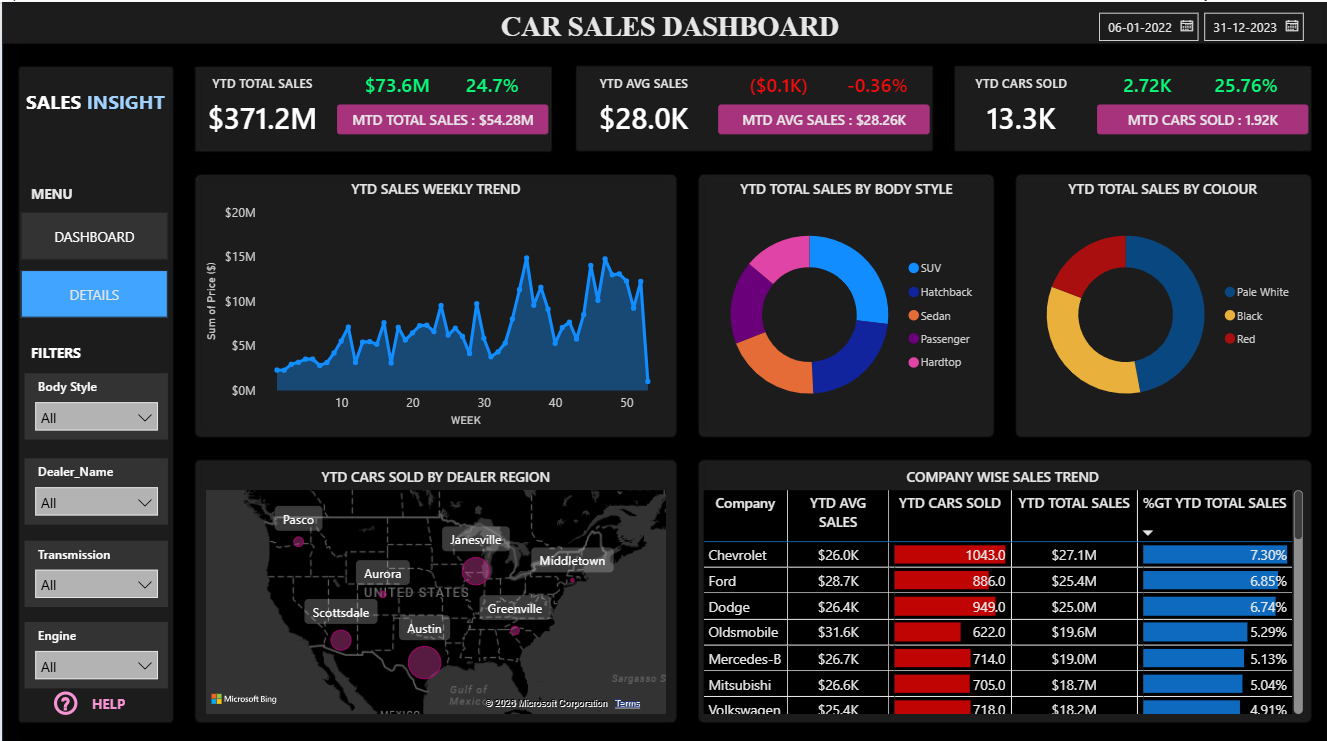

What the dashboard file says about the page in this screenshot:
{"tool":"powerbi","page":{"name":"DASHBOARD","canvas":[1280,720],"ordinal":0},"visuals":[{"type":"card","title":"YTD TOTAL SALES","fields":{"Values":["CAR SALE DATA.YTD TOTAL SALES"]},"box":[168.9,70,165.3,70],"z":0},{"type":"card","fields":{"Values":["CAR SALE DATA.SALES DIFFERENCE"]},"box":[334.2,65.1,95.3,33.8],"z":1000},{"type":"card","fields":{"Values":["CAR SALE DATA.YOY SALES DIFFERENCE"]},"box":[425.9,65.1,95.3,33.8],"z":2000},{"type":"card","fields":{"Values":["CAR SALE DATA.MTD CONCATENATE"]},"box":[323.3,98.9,203.9,29],"z":3000},{"type":"card","title":"YTD AVG SALES","fields":{"Values":["CAR SALE DATA.YTD AVG SALES"]},"box":[536.9,70,165.3,70],"z":4000},{"type":"card","fields":{"Values":["CAR SALE DATA.AVG DIFFERENCE"]},"box":[702.1,65.1,95.3,33.8],"z":5000},{"type":"card","fields":{"Values":["CAR SALE DATA.YDY GROWTH IN AVG PRICE"]},"box":[797.5,65.1,95.3,33.8],"z":6000},{"type":"card","fields":{"Values":["CAR SALE DATA.MTD AVG CONCATENATE"]},"box":[691.3,98.9,203.9,29],"z":7000},{"type":"card","title":"YTD CARS SOLD","fields":{"Values":["CAR SALE DATA.YTD CARS SOLD"]},"box":[901.2,70,165.3,70],"z":8000},{"type":"card","fields":{"Values":["CAR SALE DATA.CARS SOLD DIFF"]},"box":[1058,65.1,95.3,33.8],"z":9000},{"type":"card","fields":{"Values":["CAR SALE DATA.YOY GROWTH IN CAR SOLD"]},"box":[1153.4,65.1,95.3,33.8],"z":10000},{"type":"card","fields":{"Values":["CAR SALE DATA.MTD CARS SOLD CONCATENATE"]},"box":[1056.8,98.9,203.9,29],"z":11000},{"type":"areaChart","title":"YTD SALES WEEKLY TREND","fields":{"Category":["CALENDAR TABLE.WEEK"],"Y":["Sum(CAR SALE DATA.Price ($))"]},"box":[191.8,171.3,453.6,243.7],"z":12000},{"type":"donutChart","title":"YTD TOTAL SALES BY BODY STYLE","fields":{"Category":["CAR SALE DATA.Body Style"],"Y":["CAR SALE DATA.YTD TOTAL SALES"]},"box":[679.2,171.3,271.4,243.7],"z":13000},{"type":"donutChart","title":"YTD TOTAL SALES BY COLOUR","fields":{"Category":["CAR SALE DATA.Color"],"Y":["CAR SALE DATA.YTD TOTAL SALES"]},"box":[984.5,171.3,271.4,243.7],"z":14000},{"type":"map","title":"YTD CARS SOLD BY DEALER REGION","fields":{"Category":["CAR SALE DATA.Dealer_Region"],"Size":["CAR SALE DATA.YTD CARS SOLD"]},"box":[191.8,448.8,453.6,243.7],"z":15000},{"type":"tableEx","title":"COMPANY WISE SALES TREND","fields":{"Values":["CAR SALE DATA.Company","CAR SALE DATA.YTD AVG SALES","CAR SALE DATA.YTD CARS SOLD","CAR SALE DATA.YTD TOTAL SALES","Divide(CAR SALE DATA.YTD TOTAL SALES, ScopedEval(CAR SALE DATA.YTD TOTAL SALES, []))"]},"box":[670.8,448.8,589.9,243.7],"z":16000},{"type":"textbox","box":[418.8,3.8,458.8,41.2],"z":17000},{"type":"slicer","fields":{"Values":["CAR SALE DATA.Body Style"]},"box":[21.2,358.5,138.8,63.8],"z":18000},{"type":"slicer","fields":{"Values":["CAR SALE DATA.Dealer_Name"]},"box":[21.2,439.7,138.8,63.8],"z":19000},{"type":"slicer","fields":{"Values":["CAR SALE DATA.Transmission"]},"box":[21.2,519.7,138.8,63.8],"z":20000},{"type":"slicer","fields":{"Values":["CAR SALE DATA.Engine"]},"box":[21.2,598.5,138.8,63.8],"z":21000},{"type":"textbox","box":[22.5,324.4,70,33.8],"z":22000},{"type":"textbox","box":[17.5,78.8,147.5,35],"z":23000},{"type":"pageNavigator","box":[17.5,202.5,142.5,102.5],"z":24000},{"type":"textbox","box":[22.5,171.2,68.8,27.5],"z":25000},{"type":"slicer","fields":{"Values":["CAR SALE DATA.Date"]},"box":[1046.2,0,223.8,48.8],"z":26000},{"type":"actionButton","title":"HELP","box":[46.2,661.2,85,31.2],"z":27000}]}

Visuals, with their boxes in screenshot pixels (x1, y1, x2, y2), scaled from the page's 1280x720 canvas onto the 1327x741 screenshot:
"YTD TOTAL SALES" card: 175 72 346 144
card - CAR SALE DATA.SALES DIFFERENCE: 346 67 445 102
card - CAR SALE DATA.YOY SALES DIFFERENCE: 442 67 540 102
card - CAR SALE DATA.MTD CONCATENATE: 335 102 547 132
"YTD AVG SALES" card: 557 72 728 144
card - CAR SALE DATA.AVG DIFFERENCE: 728 67 827 102
card - CAR SALE DATA.YDY GROWTH IN AVG PRICE: 827 67 926 102
card - CAR SALE DATA.MTD AVG CONCATENATE: 717 102 928 132
"YTD CARS SOLD" card: 934 72 1106 144
card - CAR SALE DATA.CARS SOLD DIFF: 1097 67 1196 102
card - CAR SALE DATA.YOY GROWTH IN CAR SOLD: 1196 67 1295 102
card - CAR SALE DATA.MTD CARS SOLD CONCATENATE: 1096 102 1307 132
"YTD SALES WEEKLY TREND" areaChart: 199 176 669 427
"YTD TOTAL SALES BY BODY STYLE" donutChart: 704 176 986 427
"YTD TOTAL SALES BY COLOUR" donutChart: 1021 176 1302 427
"YTD CARS SOLD BY DEALER REGION" map: 199 462 669 713
"COMPANY WISE SALES TREND" tableEx: 695 462 1307 713
textbox: 434 4 910 46
slicer - CAR SALE DATA.Body Style: 22 369 166 435
slicer - CAR SALE DATA.Dealer_Name: 22 453 166 518
slicer - CAR SALE DATA.Transmission: 22 535 166 601
slicer - CAR SALE DATA.Engine: 22 616 166 682
textbox: 23 334 96 369
textbox: 18 81 171 117
pageNavigator: 18 208 166 314
textbox: 23 176 95 204
slicer - CAR SALE DATA.Date: 1085 0 1317 50
"HELP" actionButton: 48 680 136 713
